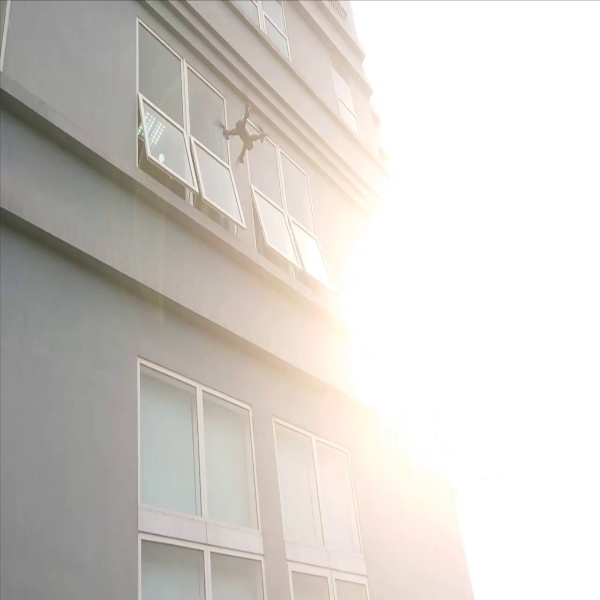drone: (210, 92, 271, 166)
